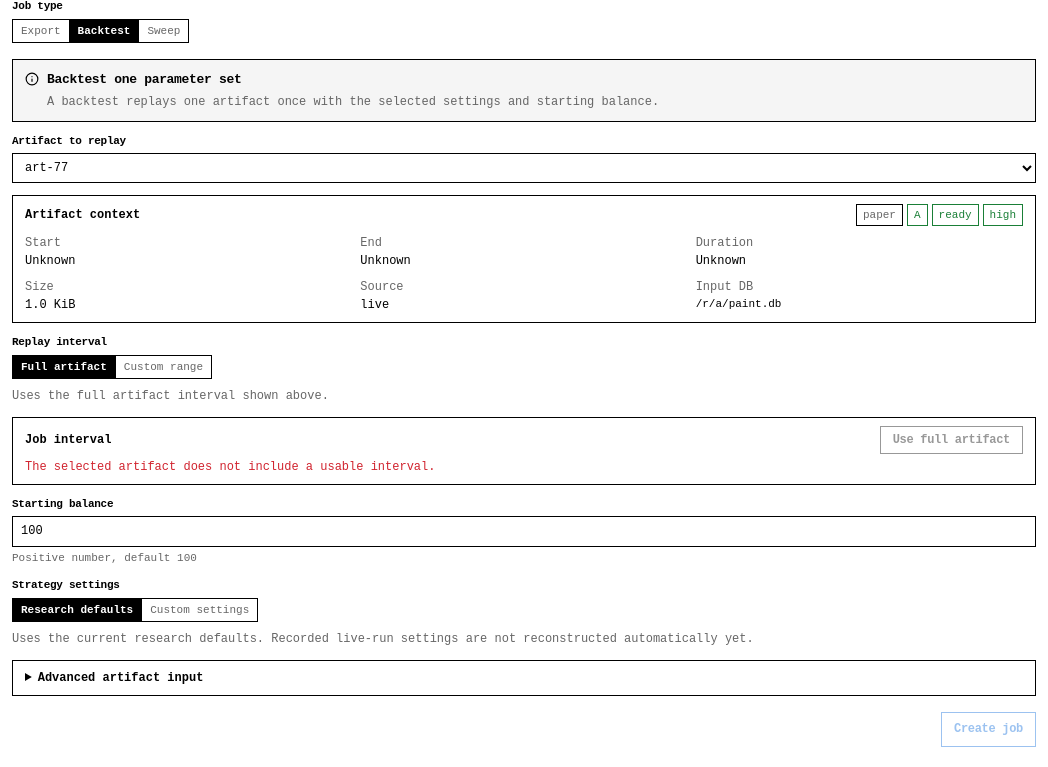
Test: JobCreateForm - backtest › blocks invalid, missing, reversed, and unconfirmed large intervals
The image size is (1048, 767).
Expected: the button "Create job" is disabled, [941,712,1036,747]
Expected: the text "The selected artifact does not include a usable interval." is shown, [25,460,436,474]
Click the radio button labelled "Custom range": x=163, y=367 [116,356,211,378]
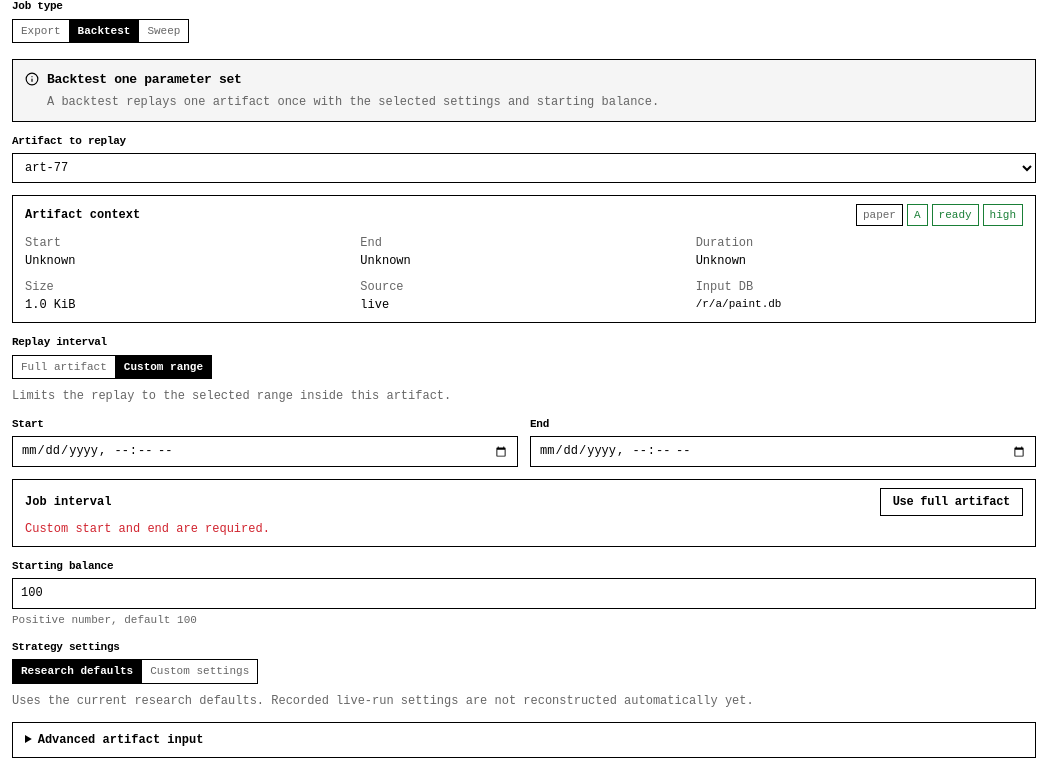
Now the text "Custom start and end are required." is shown, box [25,522,270,536]
In the field labelled "Start": x=265, y=452 [12,436,518,467], type "2026-05-17T09:00"
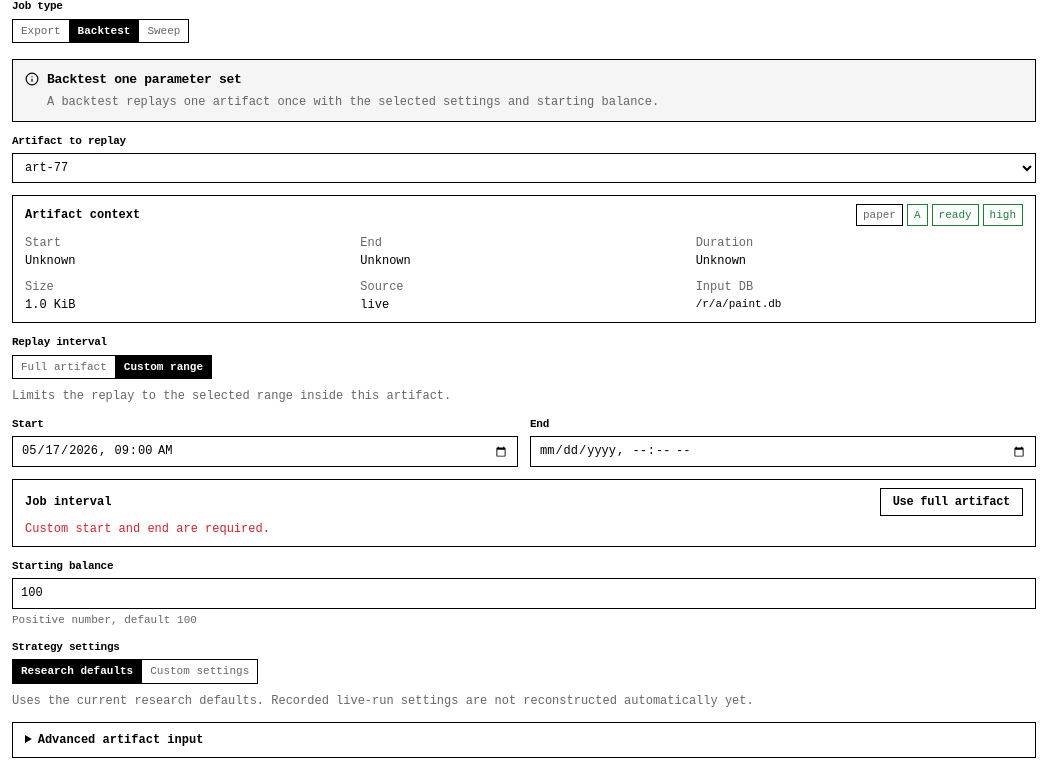
In the field labelled "End": x=783, y=452 [530,436,1036,467], type "2026-05-17T08:00"
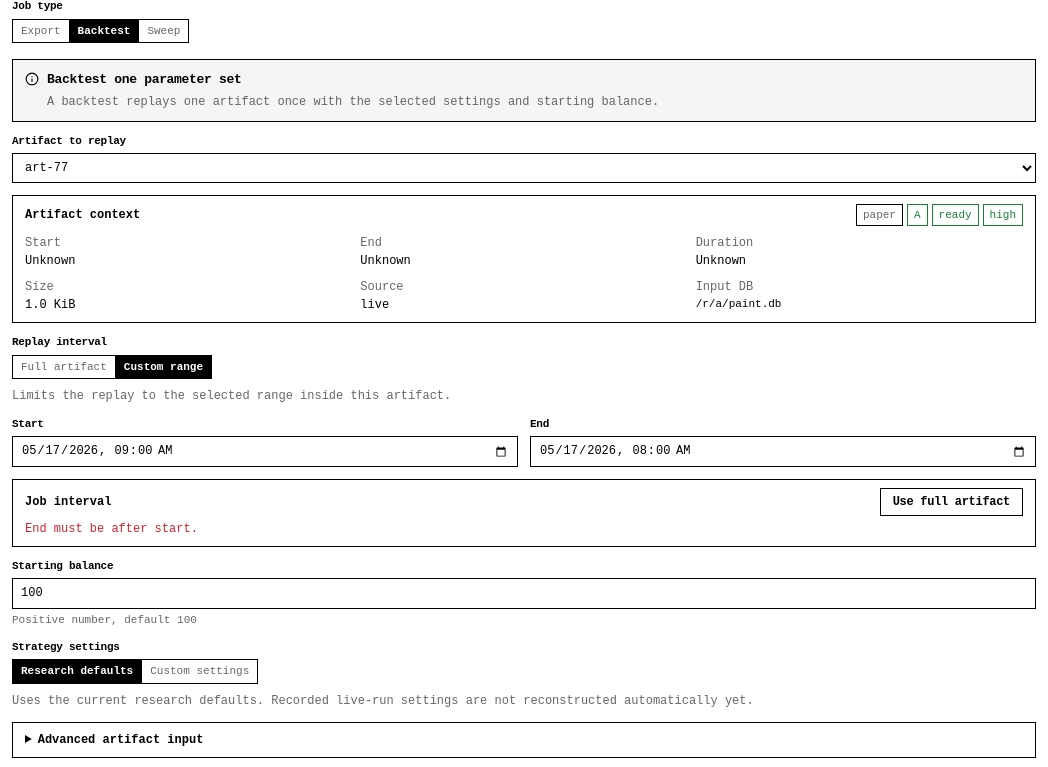
Now the text "End must be after start." is shown, box [25,522,198,536]
Replace the text in the field labelled "Start" with "2026-05-17T00:00": x=265, y=452 [12,436,518,467]
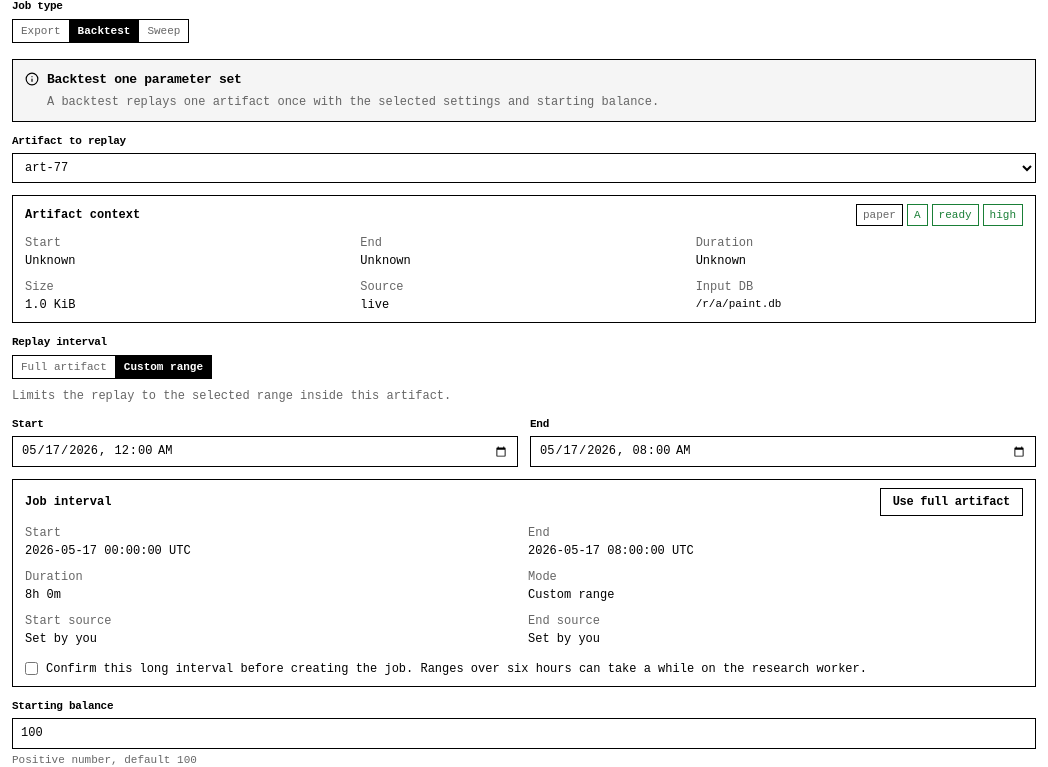
Replace the text in the field labelled "End" with "2026-05-17T07:01": x=783, y=452 [530,436,1036,467]
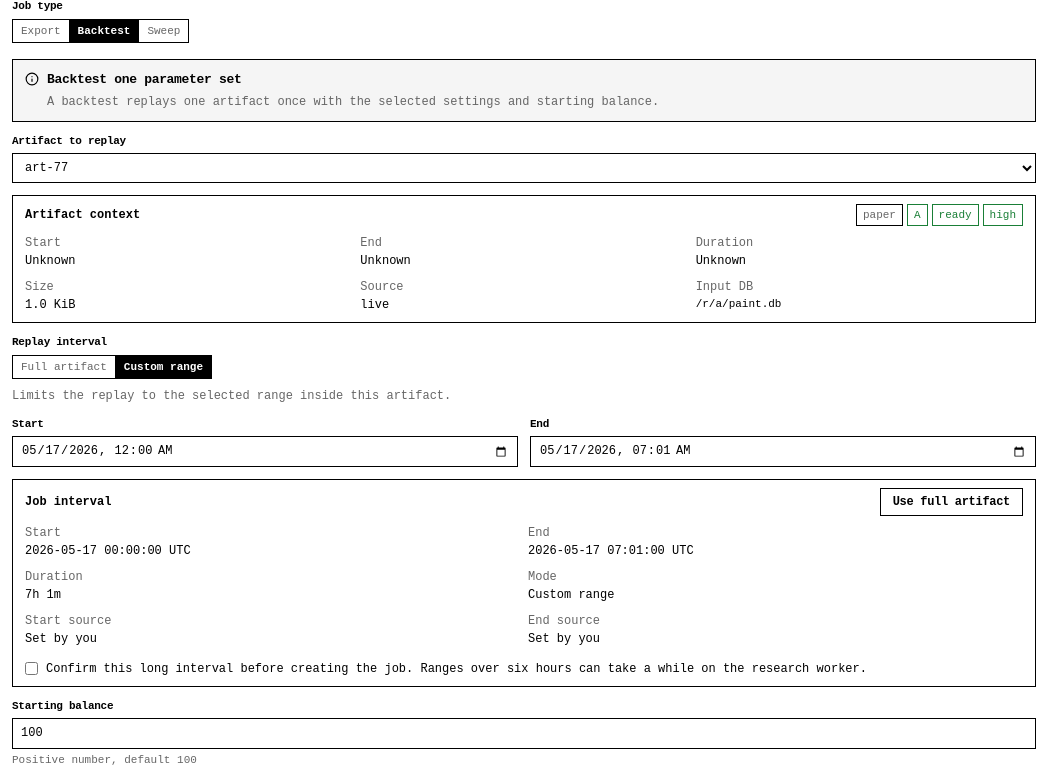
Click the checkbox labelled "Confirm this long interval": x=32, y=669 [25,662,38,675]
(page scrolled)
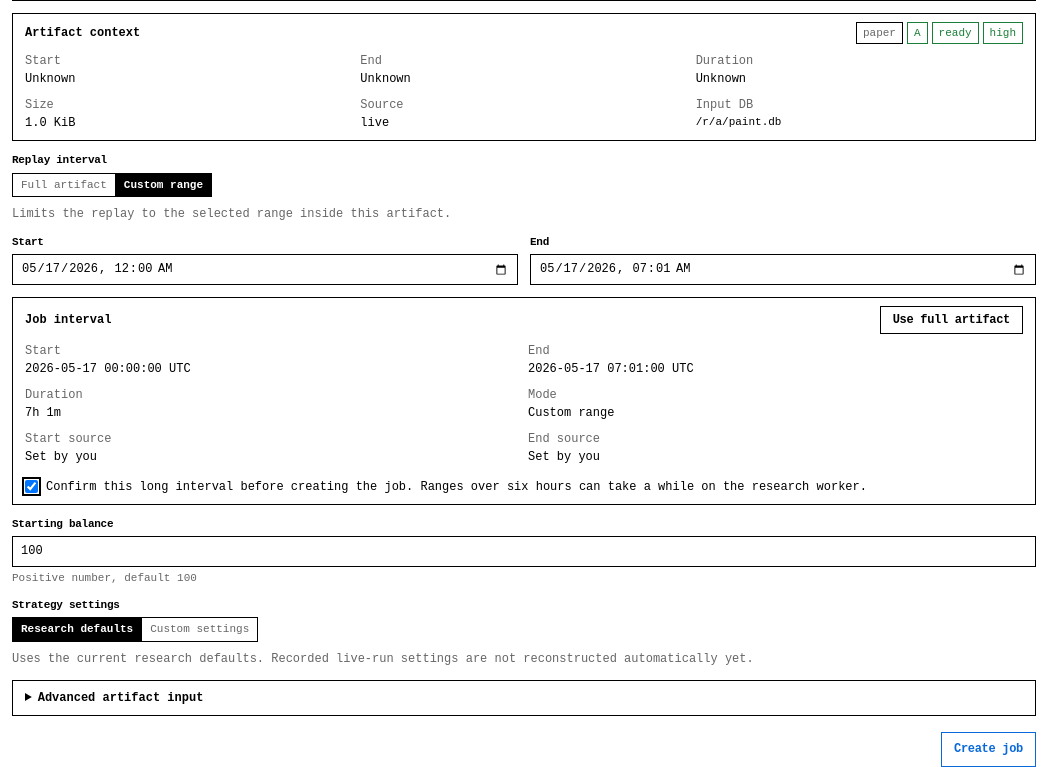
Now the button "Create job" is enabled, box [941,732,1036,766]
